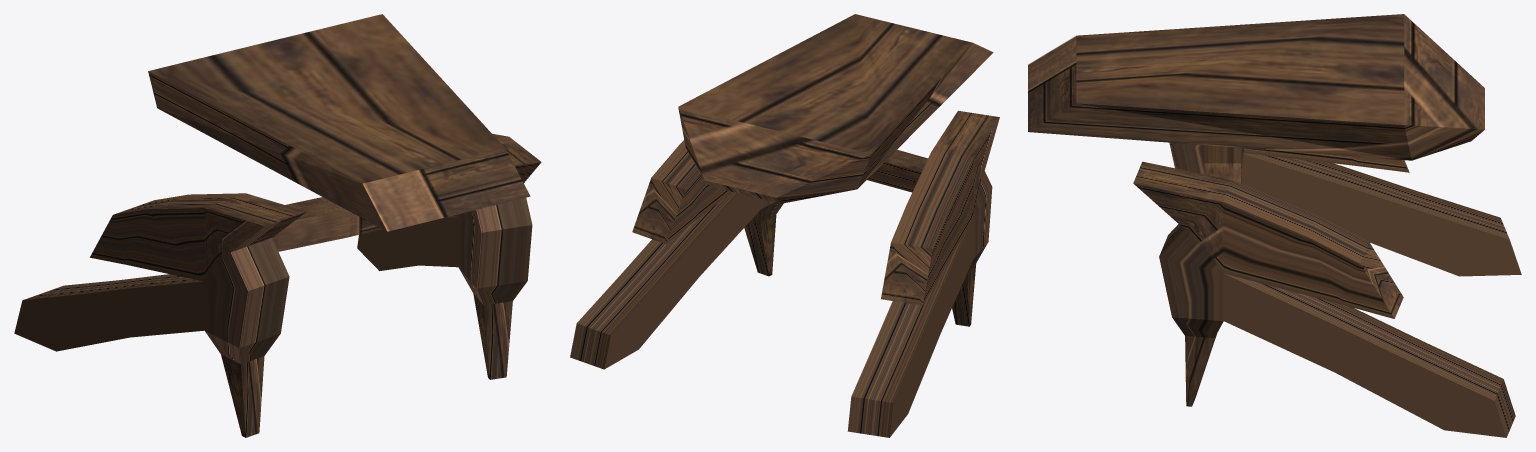
The model's file is REX.obj.
The picture shows the model from 3 angles, left to right: view 1: azimuth 30°, elevation 25°; view 2: azimuth 150°, elevation 25°; view 3: azimuth 270°, elevation 25°; orthographic projection. The views are drawn at different scales.
Visible parts, largest first — view 1: 立方体.002_立方体.005; view 2: 立方体.002_立方体.005; view 3: 立方体.002_立方体.005.
Part boxes in pixels (box(x1,y1,x2,y2)): 立方体.002_立方体.005: box(14, 14, 541, 437); 立方体.002_立方体.005: box(570, 14, 999, 437); 立方体.002_立方体.005: box(1028, 14, 1521, 437).
Size of the model in its own units: 16.66 by 11.59 by 18.79.
